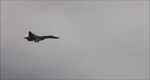maybay_muctieu: (24, 29, 59, 44)
